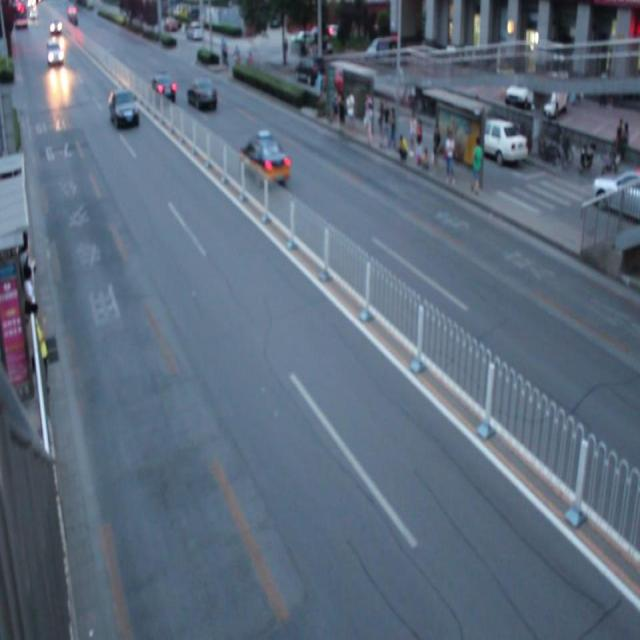car: (239, 132, 290, 188), (107, 86, 141, 132), (186, 75, 218, 116), (147, 72, 176, 108)
